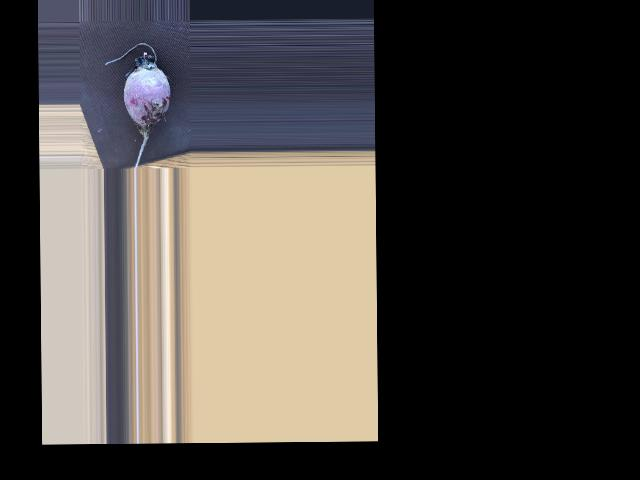beet: (104, 43, 171, 169)
